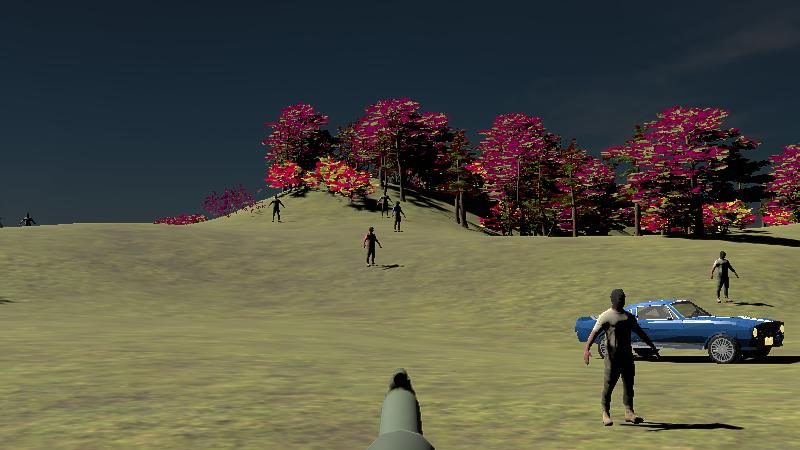car: (578, 294, 788, 366)
